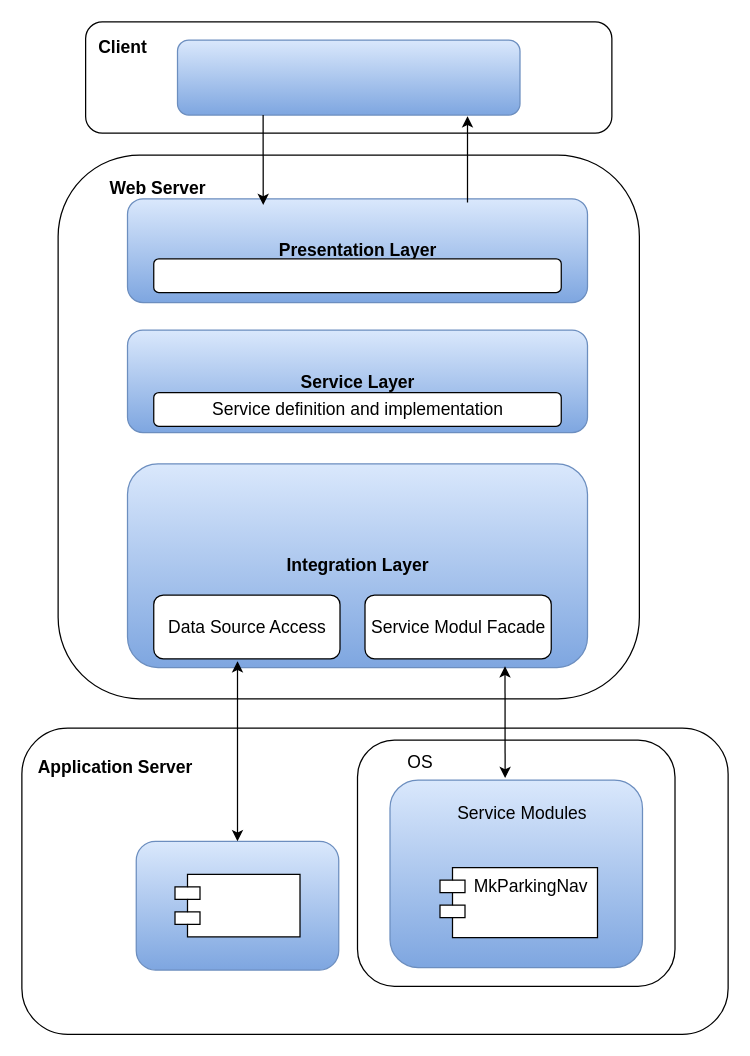
The diagram is 750 pixels wide and 1056 high, and some of its shapes have lost their labels. The shapes that lost their labels are listed below. From the top down, each one's centre as x and y in pixels, then its label:
(348,77): Web Browser (CSS, AJAX, JacaScript, XHTML)
(356,275): Wicket Components
(237,905): Database
